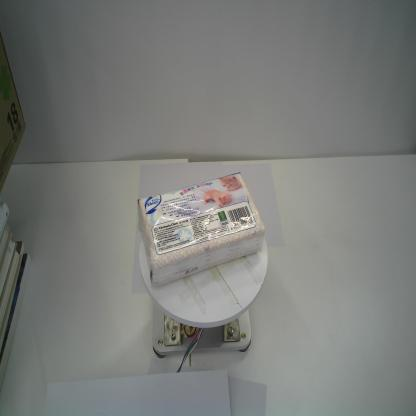Tissue: (137, 172, 266, 289)
